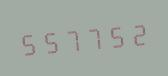five: (17, 25, 38, 59), (39, 23, 60, 57), (106, 18, 127, 52)
seven: (62, 21, 83, 56), (84, 20, 105, 54)
two: (128, 16, 149, 50)
